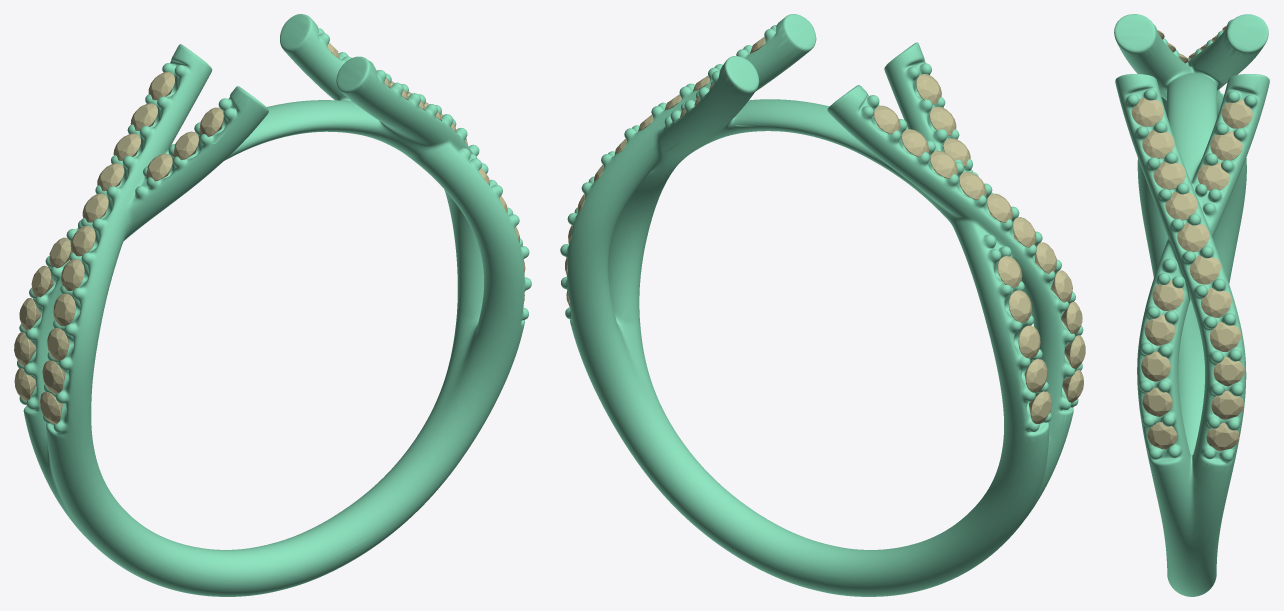
3 views of the same model, side by side, from view 1: azimuth 30°, elevation 25°; view 2: azimuth 150°, elevation 25°; view 3: azimuth 270°, elevation 25° (orthographic).
Parts seen in each view (by area): view 1: Metal02; view 2: Metal02; view 3: Metal02, Diamond_Gem.030, Diamond_Gem.035, Diamond_Gem.019, Diamond_Gem.027, Diamond_Gem.036, Diamond_Gem.031, Diamond_Gem.029, Diamond_Gem.032, Diamond_Gem.033, Diamond_Gem.023, Diamond_Gem.028 (+8 smaller).
Part boxes in pixels (<box>): Metal02: <box>17,14,531,596</box>; Metal02: <box>560,14,1083,596</box>; Metal02: <box>1114,14,1269,596</box>; Diamond_Gem.030: <box>1177,222,1209,251</box>; Diamond_Gem.035: <box>1131,97,1163,126</box>; Diamond_Gem.019: <box>1152,280,1184,310</box>; Diamond_Gem.027: <box>1210,322,1241,351</box>; Diamond_Gem.036: <box>1210,131,1242,160</box>; Diamond_Gem.031: <box>1165,191,1197,220</box>; Diamond_Gem.029: <box>1189,255,1221,284</box>; Diamond_Gem.032: <box>1153,161,1185,189</box>; Diamond_Gem.033: <box>1142,130,1174,158</box>; Diamond_Gem.023: <box>1144,314,1175,345</box>; Diamond_Gem.028: <box>1201,287,1232,317</box>.
Bounding box in the file's own units: 21.33 × 22.53 × 6.02.
